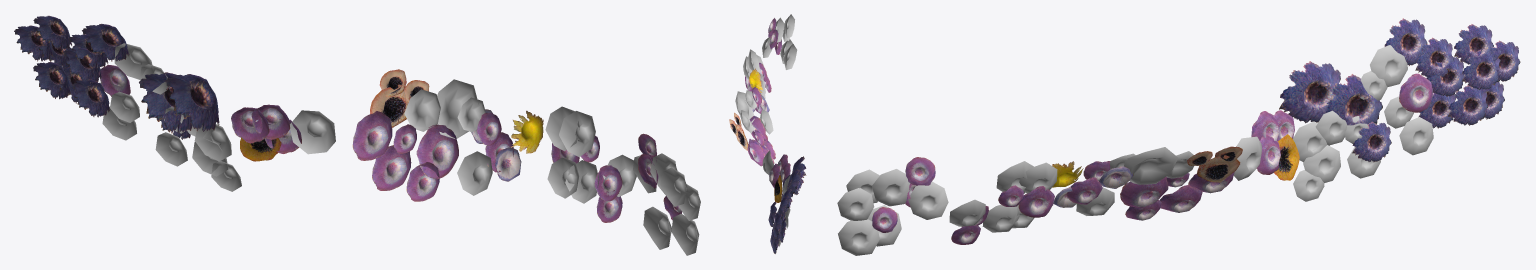
File: Right_Flower11.fbx
3 renders of one model, left to right at view 1: azimuth 30°, elevation 25°; view 2: azimuth 150°, elevation 25°; view 3: azimuth 270°, elevation 25°, orthographic. The views are drawn at different scales.
Parts seen in each view (by area): view 1: Circle.1430, Circle.1481, Circle.1429, Circle.1349, Circle.1464, Circle.1475, Circle.1459, Circle.1482, Circle.1473, Circle.1472, Circle.1431, Circle.1439 (+39 smaller); view 2: Circle.1464, Circle.1475, Circle.1430, Circle.1754, Circle.1481, Circle.1450, Circle.1473, Circle.1431, Circle.1759, Circle.1482, Circle.1349, Circle.1451 (+32 smaller); view 3: Circle.1430, Circle.1429, Circle.1475, Circle.1431, Circle.1757, Circle.1428, Circle.1437, Circle.1765, Circle.1442, Circle.1760, Circle.1416, Circle.1432 (+42 smaller).
Boxes of the visible parts, left/top/right/bottom form: Circle.1430: left=165, top=74, right=219, bottom=131; Circle.1481: left=416, top=124, right=458, bottom=179; Circle.1429: left=139, top=72, right=196, bottom=133; Circle.1349: left=290, top=110, right=335, bottom=154; Circle.1464: left=352, top=111, right=392, bottom=160; Circle.1475: left=437, top=79, right=478, bottom=138; Circle.1459: left=372, top=145, right=411, bottom=190; Circle.1482: left=559, top=111, right=595, bottom=156; Circle.1473: left=457, top=151, right=492, bottom=195; Circle.1472: left=404, top=89, right=440, bottom=131; Circle.1431: left=82, top=23, right=129, bottom=61; Circle.1439: left=72, top=79, right=109, bottom=117; Circle.1464: left=747, top=139, right=765, bottom=166; Circle.1475: left=735, top=91, right=754, bottom=123; Circle.1430: left=792, top=156, right=806, bottom=194; Circle.1754: left=783, top=44, right=797, bottom=69; Circle.1481: left=749, top=116, right=767, bottom=144; Circle.1450: left=749, top=68, right=762, bottom=94; Circle.1473: left=760, top=109, right=773, bottom=134; Circle.1431: left=787, top=169, right=800, bottom=196; Circle.1759: left=784, top=14, right=794, bottom=37; Circle.1482: left=748, top=49, right=760, bottom=72; Circle.1349: left=762, top=150, right=774, bottom=175; Circle.1451: left=736, top=124, right=748, bottom=150; Circle.1430: left=1279, top=61, right=1340, bottom=123; Circle.1429: left=1325, top=74, right=1382, bottom=125; Circle.1475: left=1124, top=147, right=1178, bottom=184; Circle.1431: left=1384, top=18, right=1427, bottom=65; Circle.1757: left=838, top=219, right=879, bottom=255; Circle.1428: left=1352, top=121, right=1391, bottom=162; Circle.1437: left=1448, top=85, right=1488, bottom=125; Circle.1765: left=908, top=181, right=948, bottom=219; Circle.1442: left=1415, top=37, right=1453, bottom=77; Circle.1760: left=872, top=169, right=910, bottom=206; Circle.1416: left=1370, top=45, right=1407, bottom=87; Circle.1432: left=1462, top=50, right=1500, bottom=89.
Size of the model in its own units: 135 by 57.74 by 243.
